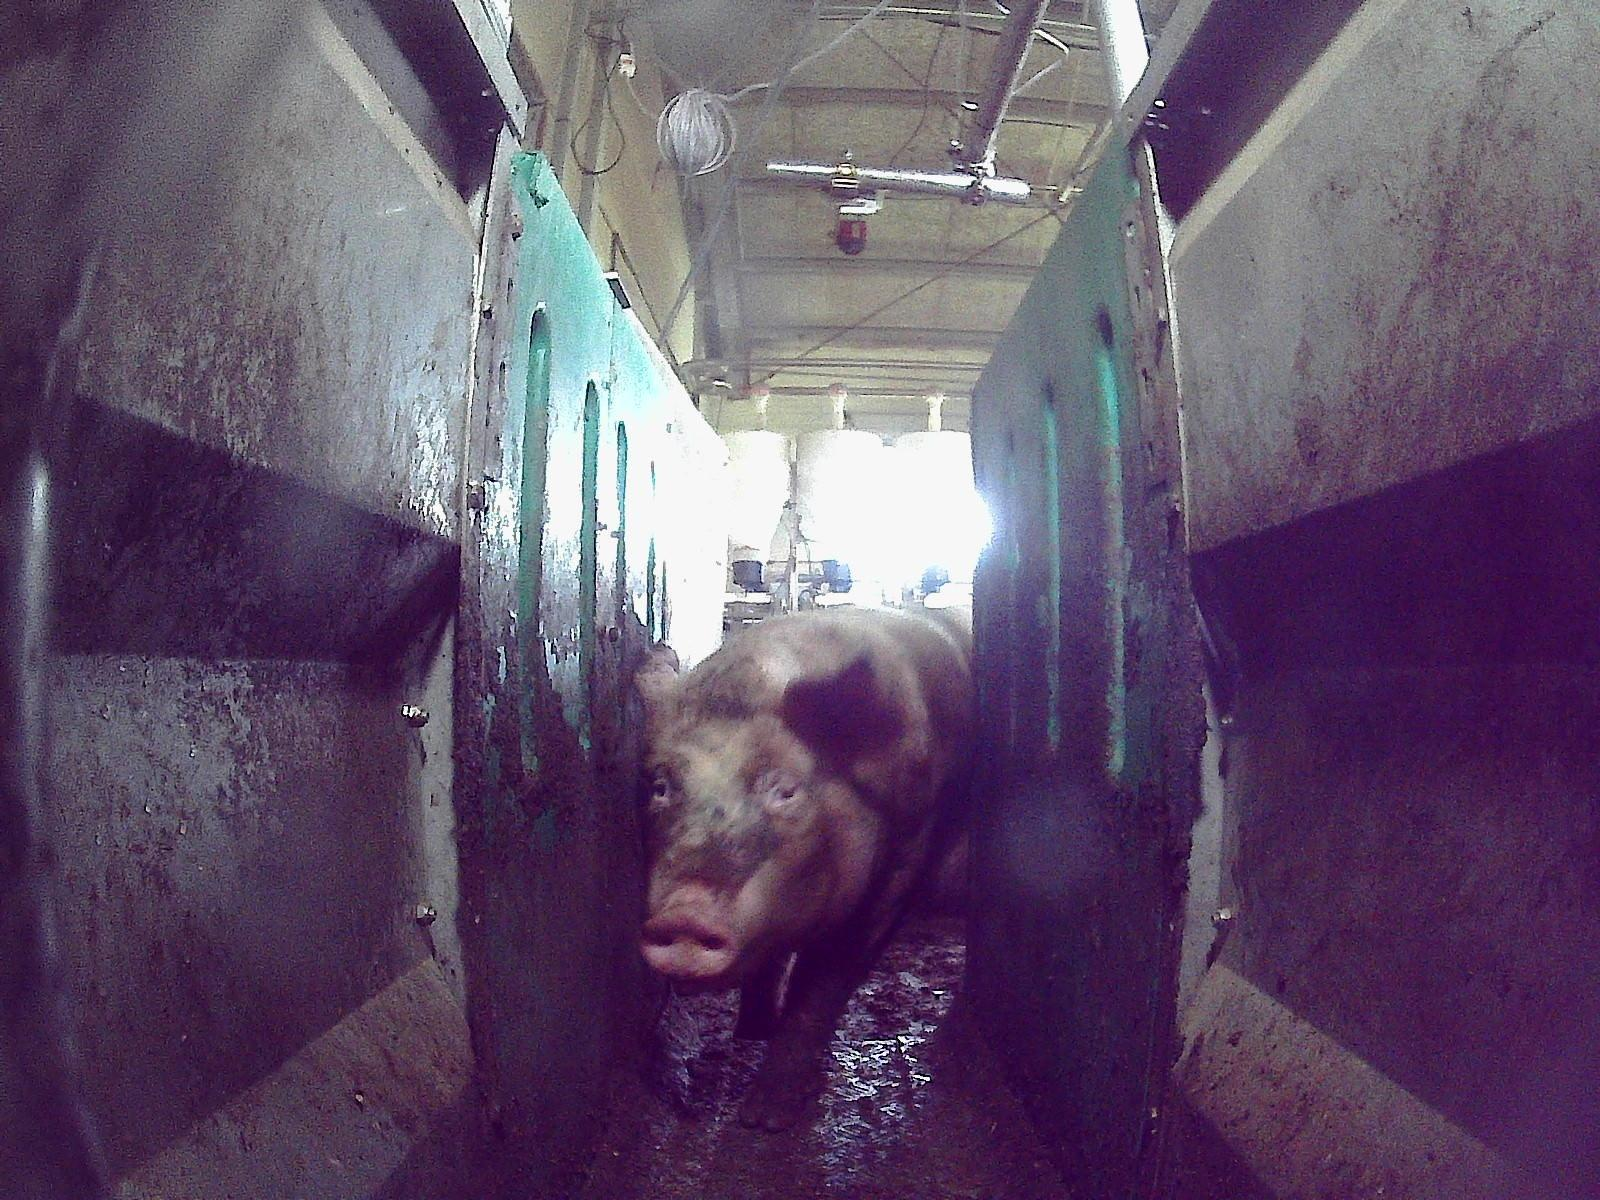Face: (636, 695, 865, 978)
